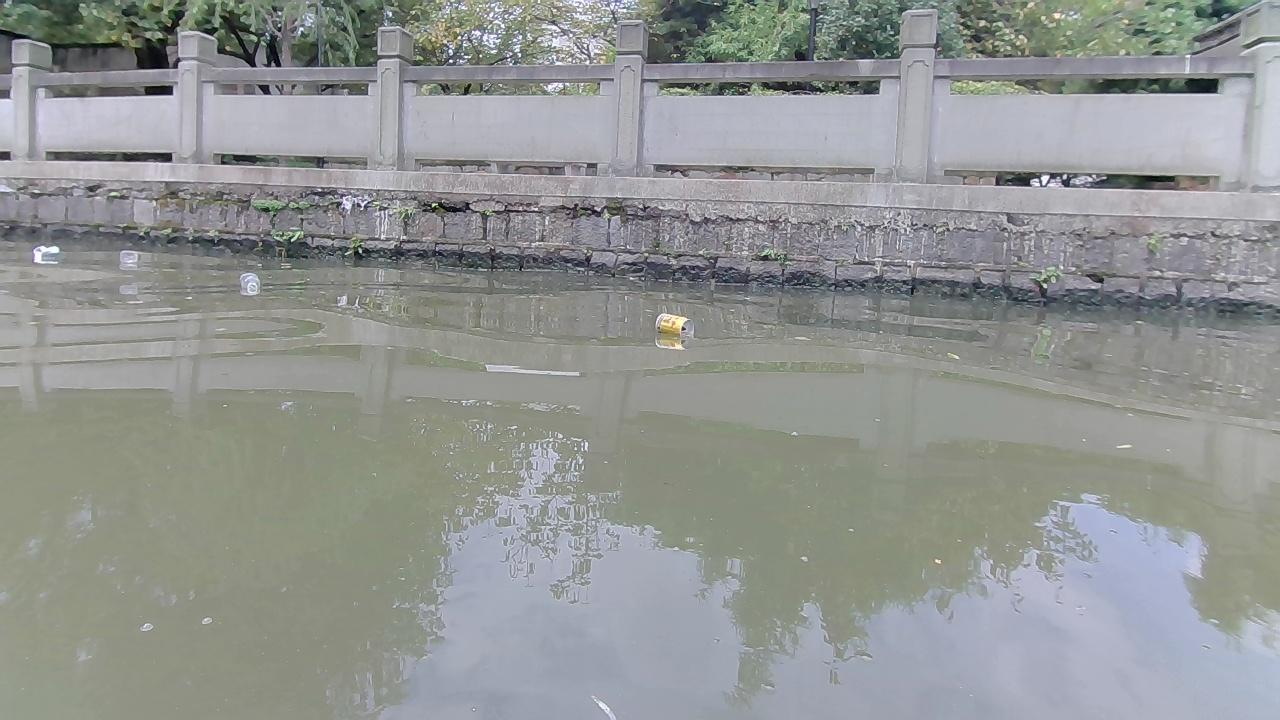bottle: (652, 312, 694, 334), (237, 271, 260, 289), (32, 244, 58, 255), (118, 250, 137, 262)
